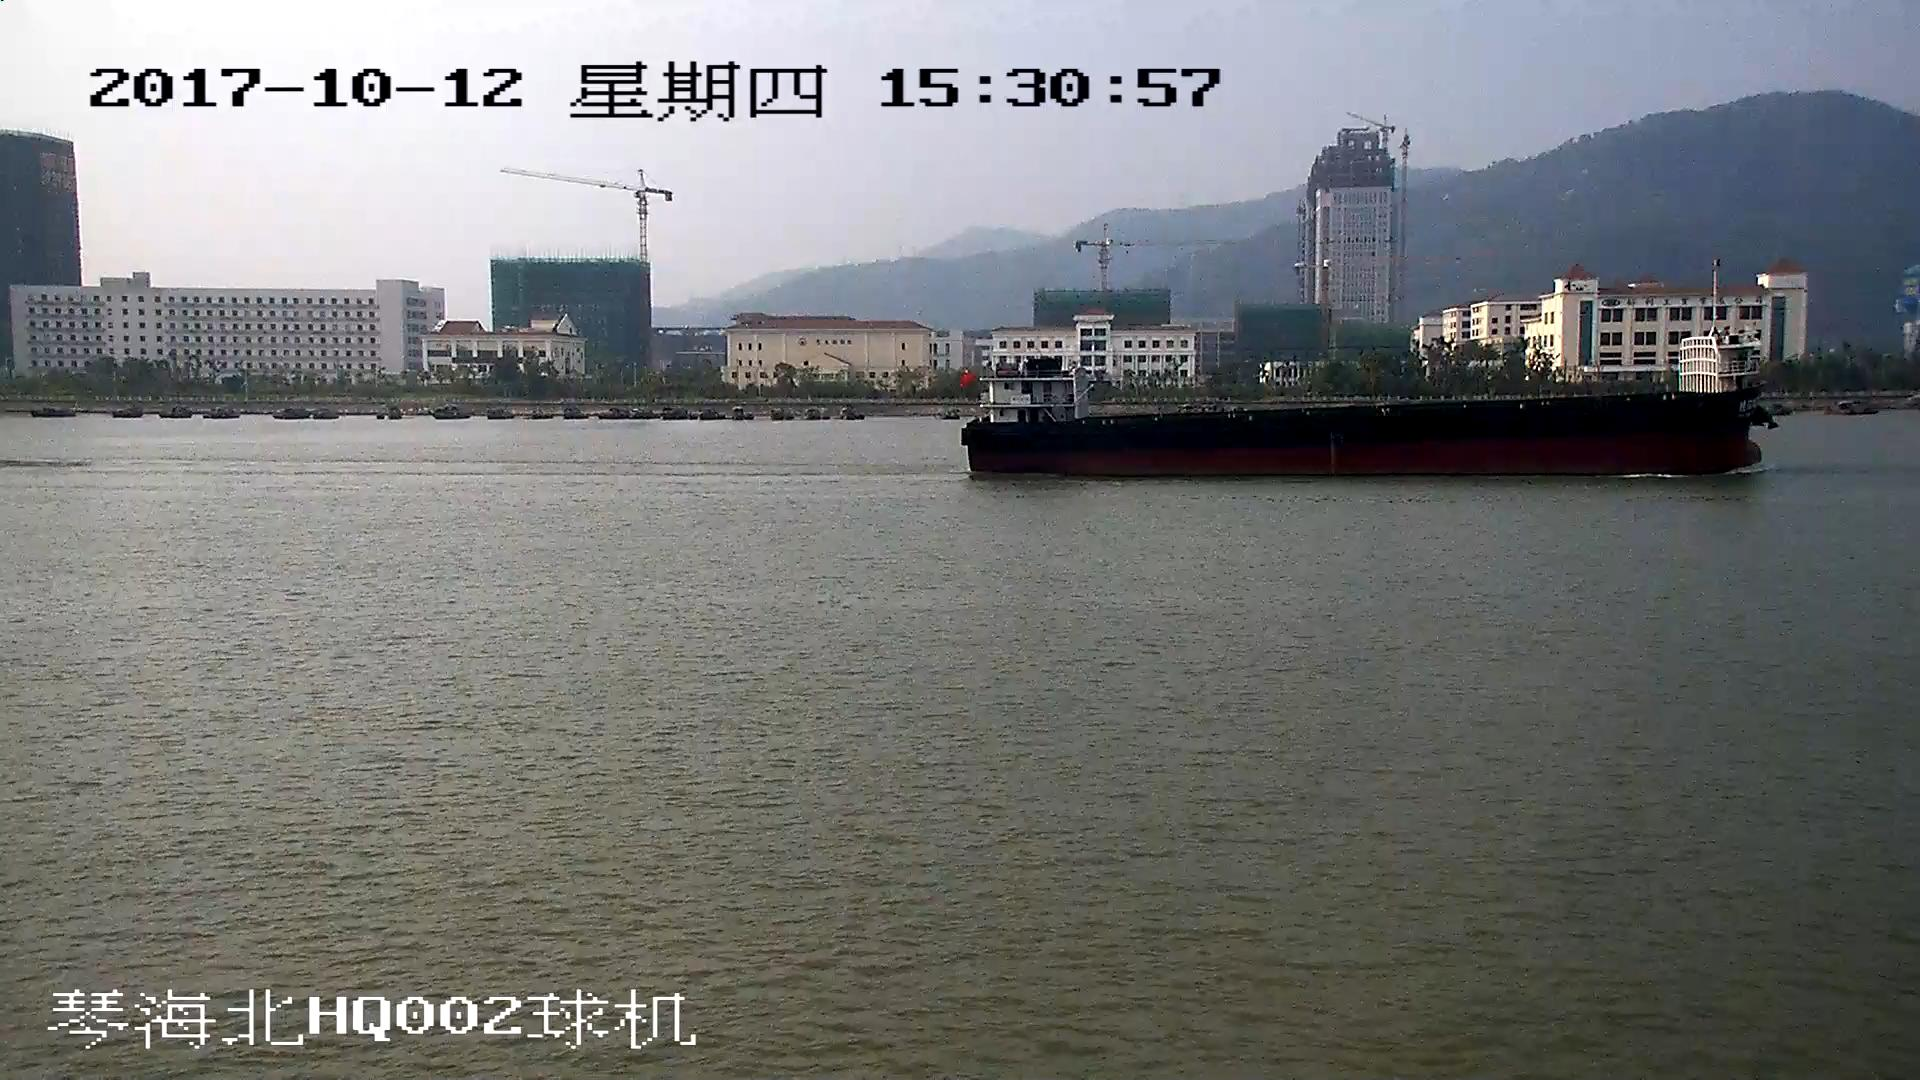general cargo ship: (965, 313, 1768, 475)
